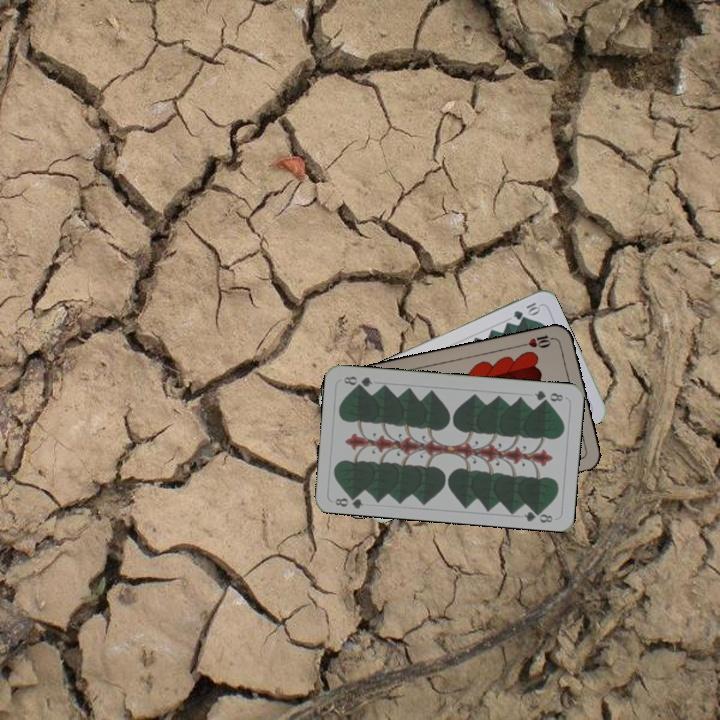G10: (509, 298, 543, 322)
G8: (331, 490, 366, 510), (530, 386, 566, 405)
H10: (518, 330, 558, 351)
